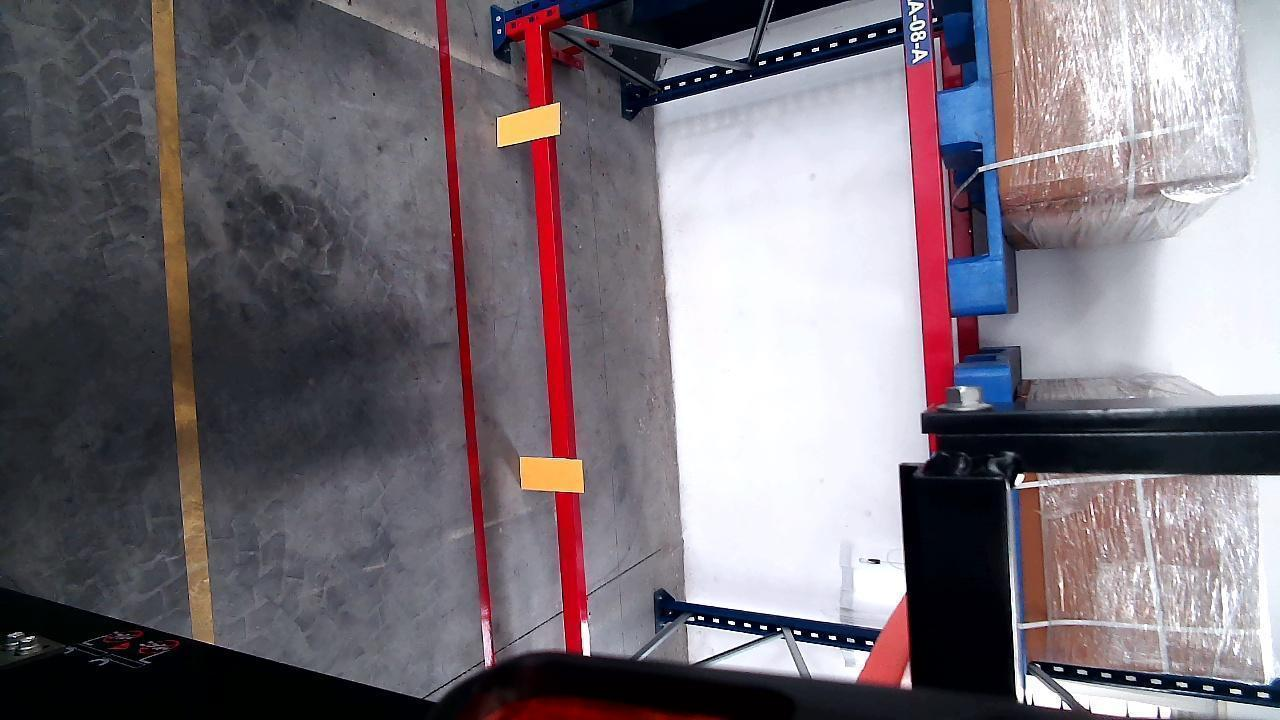red_line: (439, 0, 490, 661)
yellow_line: (152, 0, 217, 642)
